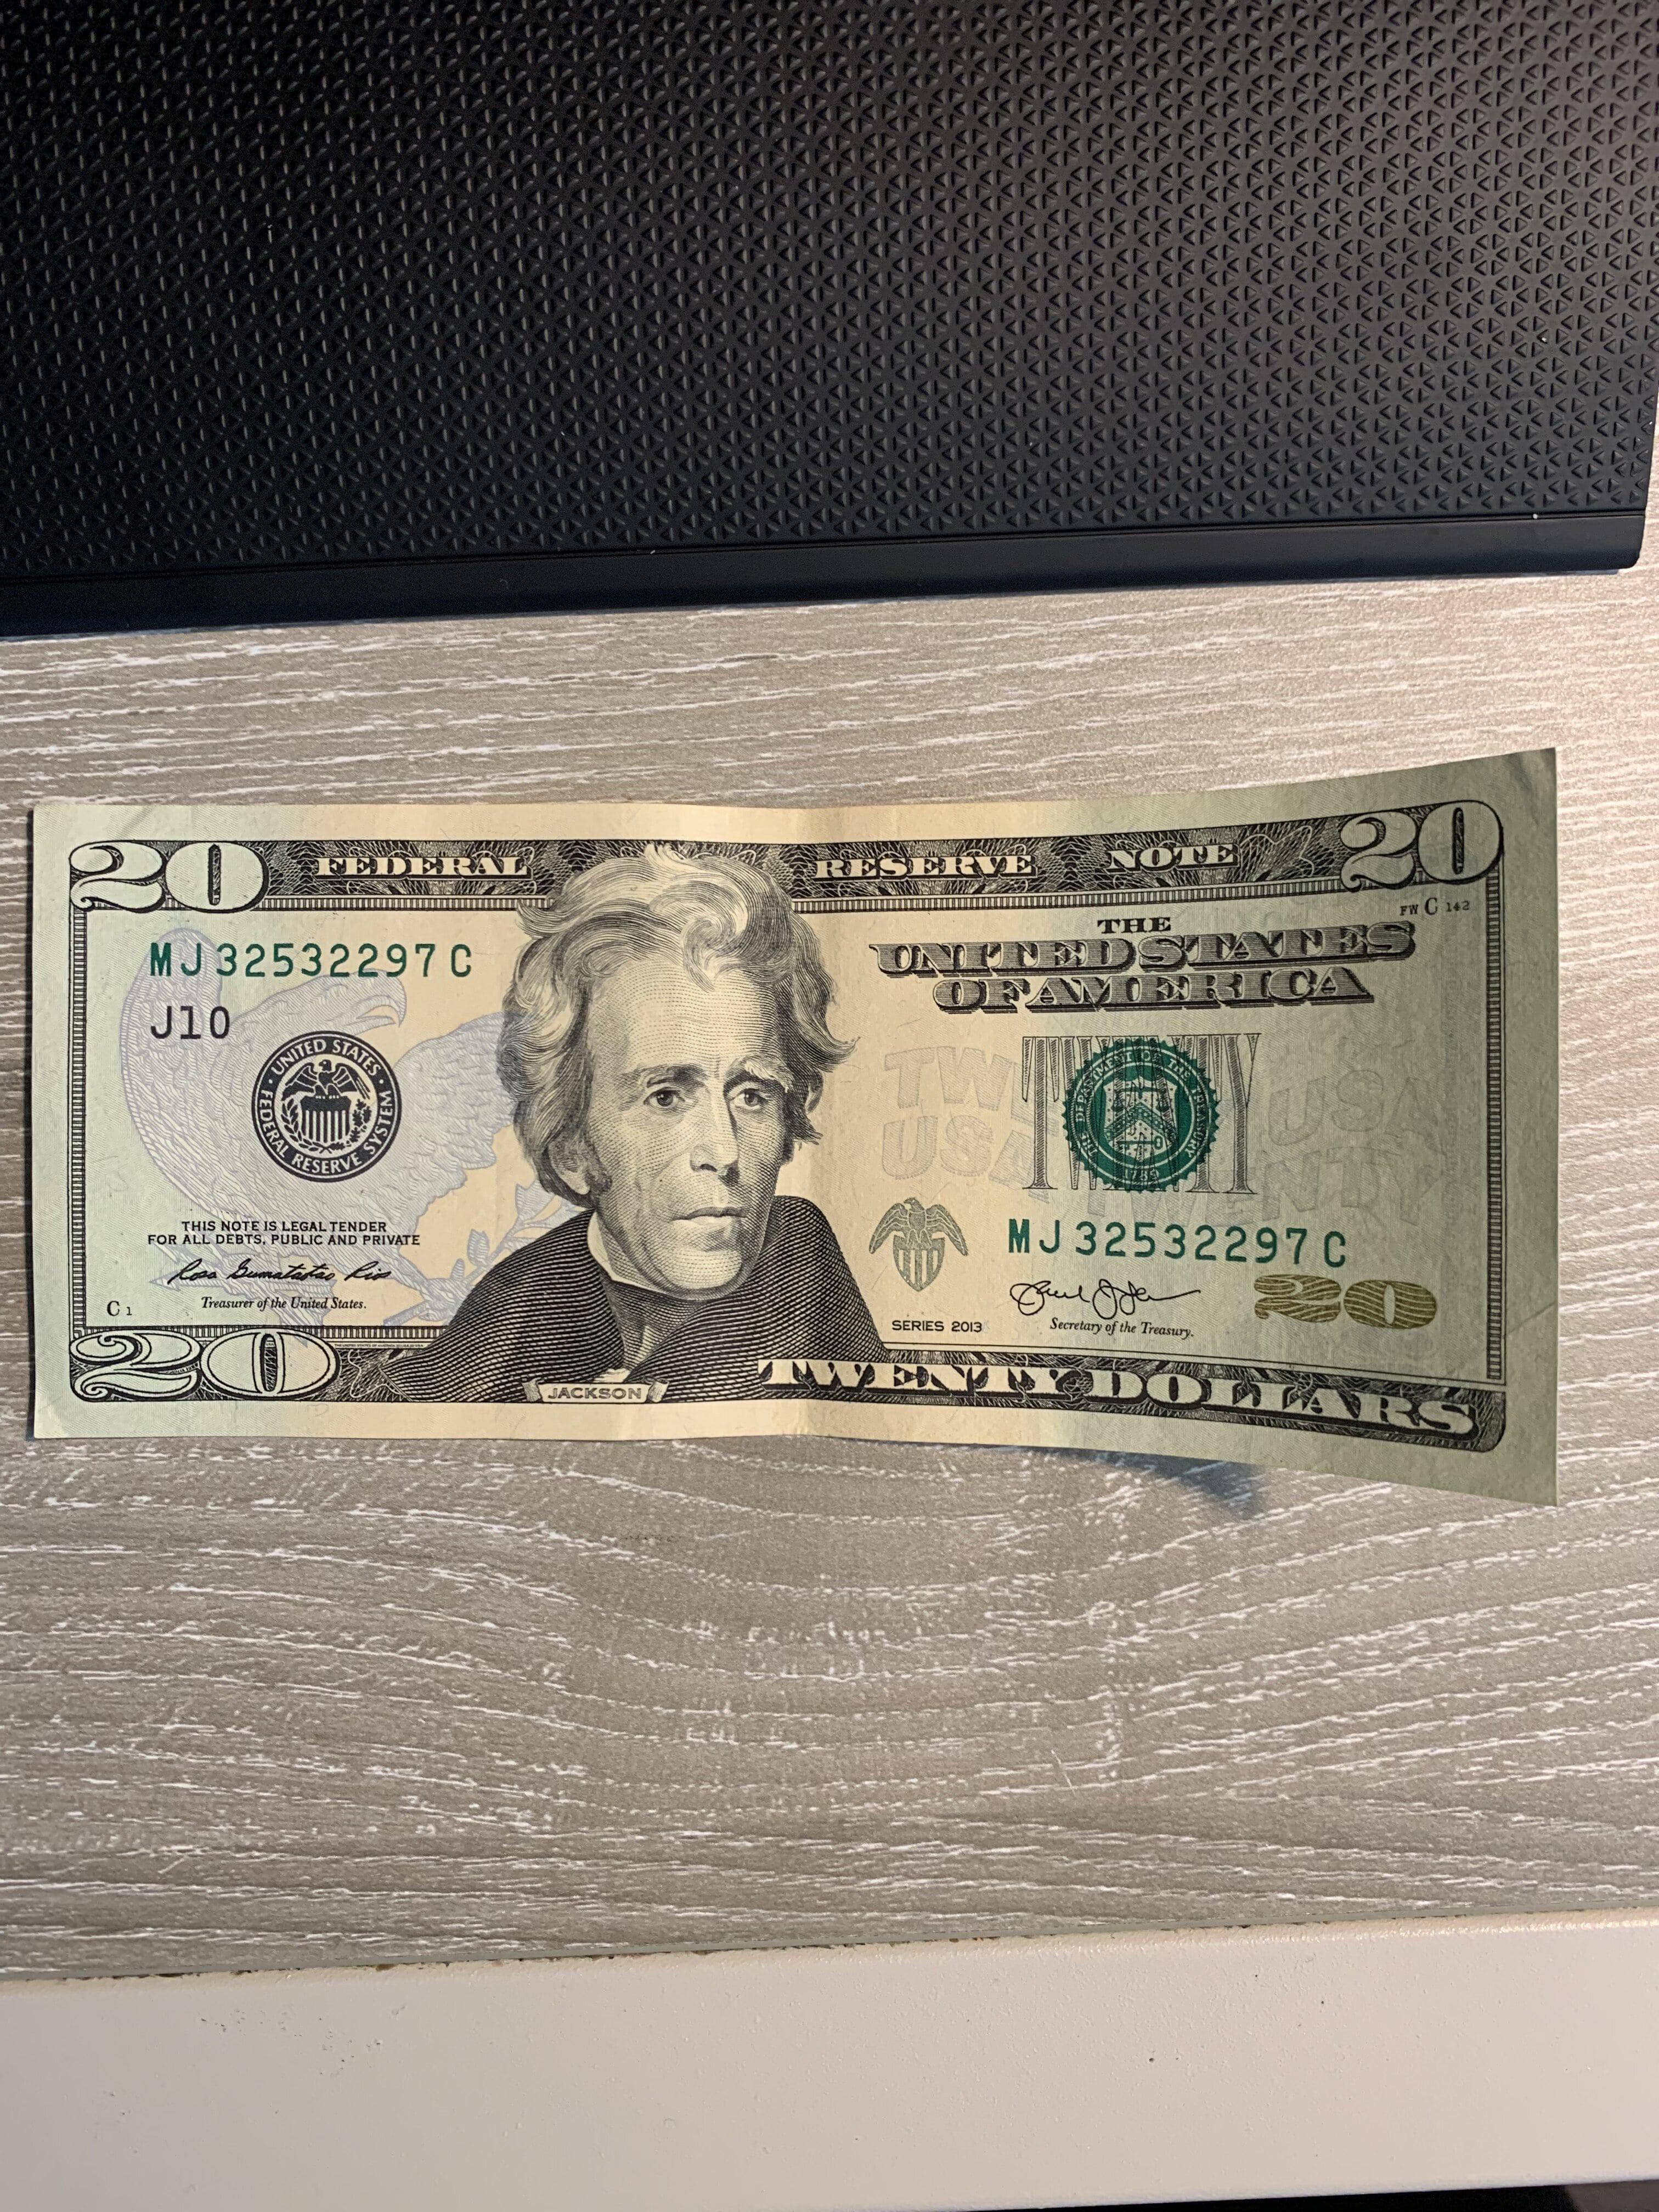TwentyBill: (12, 697, 1607, 1559)
